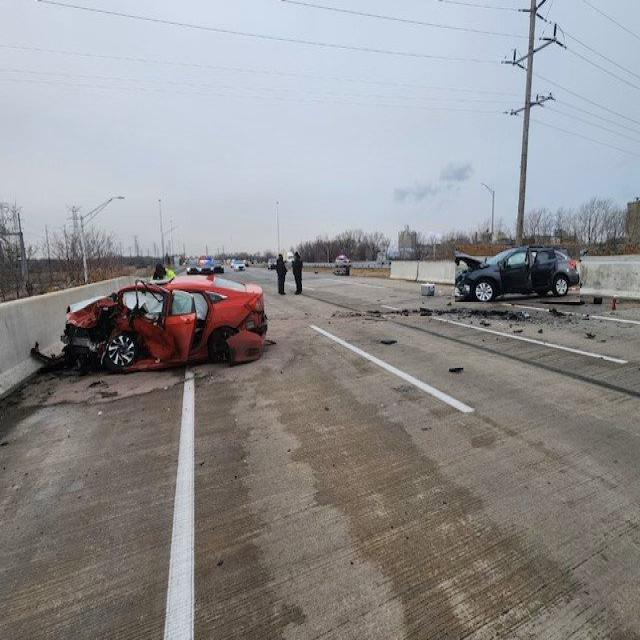accident: (61, 275, 268, 371), (455, 245, 580, 302)
